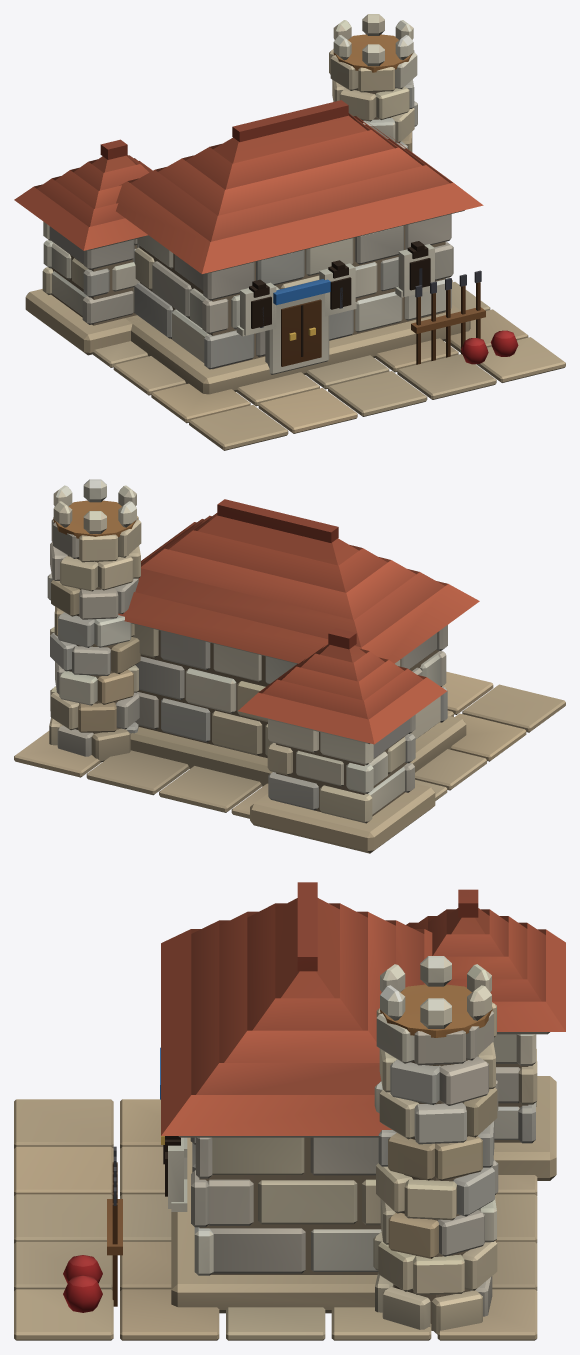
File: b_barracks.glb
3 renders of one model, top to bottom at view 1: azimuth 30°, elevation 25°; view 2: azimuth 150°, elevation 25°; view 3: azimuth 270°, elevation 25°, orthographic. The views are drawn at different scales.
Visible parts, largest first — view 1: b_barracks, L2, L3; view 2: b_barracks, L2, L3; view 3: b_barracks, L3, L2.
Part boxes in pixels (bbox=[...]): b_barracks: bbox=[92, 100, 565, 450]; L2: bbox=[14, 139, 518, 364]; L3: bbox=[329, 14, 417, 151]; b_barracks: bbox=[14, 499, 565, 818]; L2: bbox=[238, 628, 446, 853]; L3: bbox=[47, 479, 141, 761]; b_barracks: bbox=[14, 882, 537, 1340]; L3: bbox=[373, 956, 498, 1334]; L2: bbox=[63, 889, 565, 1312].
Bounding box in the file's own units: 0.718 × 0.46 × 0.6878.
